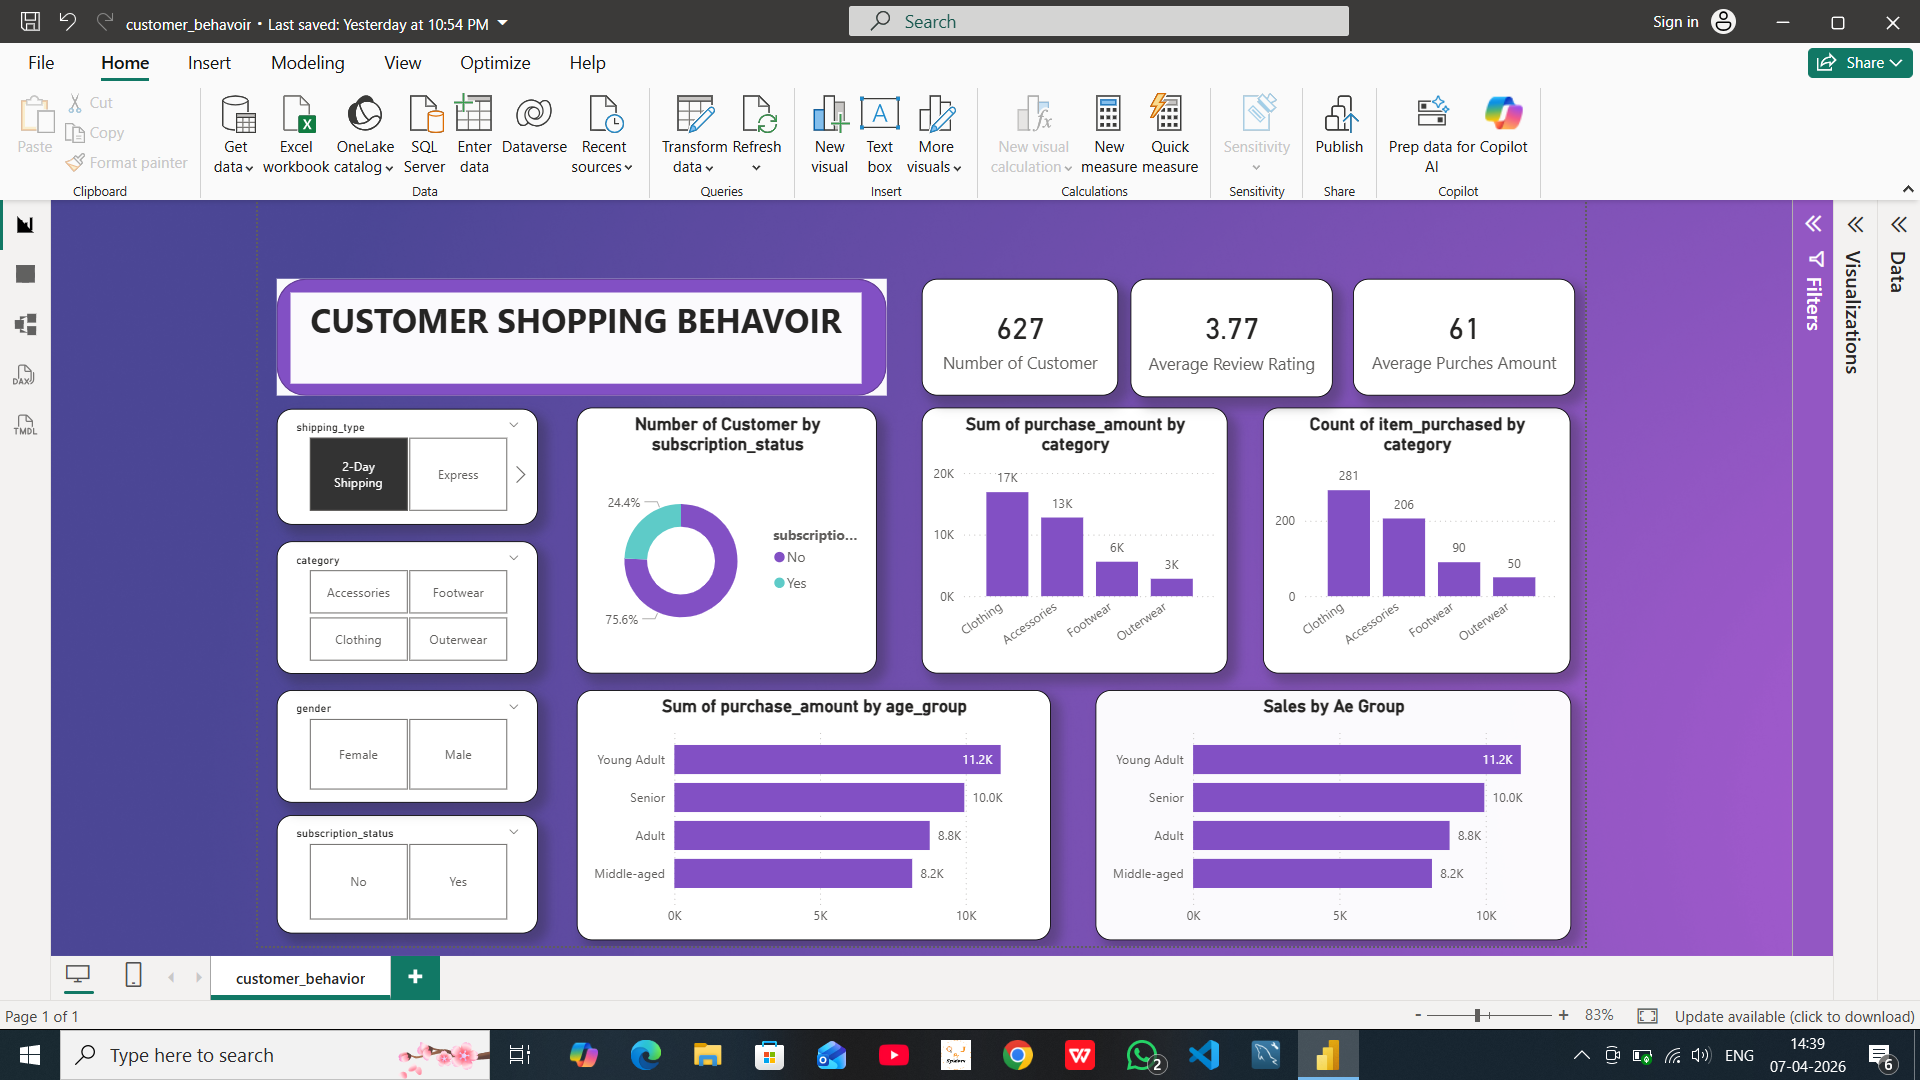

What the dashboard file says about the page in this screenshot:
{"tool":"powerbi","page":{"name":"customer_behavior","canvas":[1280,720],"ordinal":0},"visuals":[{"type":"donutChart","fields":{"Category":["customer_behavior customer.subscription_status"],"Y":["customer_behavior customer.Number of Customer"]},"box":[307.7,200.6,289.8,256.9],"z":0},{"type":"clusteredColumnChart","fields":{"Category":["customer_behavior customer.category"],"Y":["Sum(customer_behavior customer.purchase_amount)"]},"box":[640.1,200.6,295.3,256.9],"z":1000},{"type":"clusteredColumnChart","fields":{"Category":["customer_behavior customer.category"],"Y":["CountNonNull(customer_behavior customer.item_purchased)"]},"box":[969.8,200.6,296.7,256.9],"z":2000},{"type":"barChart","fields":{"Y":["Sum(customer_behavior customer.purchase_amount)"],"Category":["customer_behavior customer.age_group"]},"box":[307.7,472.5,457.4,241.8],"z":3000},{"type":"barChart","title":"Sales by Ae Group","fields":{"Category":["customer_behavior customer.age_group"],"Y":["Sum(customer_behavior customer.purchase_amount)"]},"box":[807.7,472.5,458.8,241.8],"z":4000},{"type":"card","fields":{"Values":["customer_behavior customer.Number of Customer"]},"box":[640.1,75.6,189.6,112.6],"z":5000},{"type":"card","fields":{"Values":["customer_behavior customer.Average Purches Amount"]},"box":[1056.4,75.6,214.3,112.6],"z":6000},{"type":"card","fields":{"Values":["customer_behavior customer.Average Review Rating"]},"box":[842.1,75.6,195.1,114],"z":7000},{"type":"slicer","fields":{"Values":["customer_behavior customer.subscription_status"]},"box":[17.9,594,252.2,114.4],"z":8000},{"type":"slicer","fields":{"Values":["customer_behavior customer.gender"]},"box":[17.9,472.7,252.2,108.9],"z":9000},{"type":"slicer","fields":{"Values":["customer_behavior customer.category"]},"box":[17.9,329.4,252.2,128.2],"z":10000},{"type":"slicer","fields":{"Values":["customer_behavior customer.shipping_type"]},"box":[17.9,201.2,252.2,111.6],"z":11000},{"type":"shape","box":[17.9,75.8,588.5,113],"z":11001},{"type":"textbox","box":[31.7,89.6,551.3,88.2],"z":11002}]}

Visuals, with their boxes on the page's 1280x720 design canvas (x1, y1, x2, y2). These are canvas units, not pixel positions in the 1920x1080 screenshot, which may show the page scaled, cropped or inside an application window:
donutChart - customer_behavior customer.subscription_status x customer_behavior customer.Number of Customer: (left=308, top=201, right=598, bottom=458)
clusteredColumnChart - customer_behavior customer.category x Sum(customer_behavior customer.purchase_amount): (left=640, top=201, right=935, bottom=458)
clusteredColumnChart - customer_behavior customer.category x CountNonNull(customer_behavior customer.item_purchased): (left=970, top=201, right=1266, bottom=458)
barChart - Sum(customer_behavior customer.purchase_amount) x customer_behavior customer.age_group: (left=308, top=472, right=765, bottom=714)
"Sales by Ae Group" barChart: (left=808, top=472, right=1266, bottom=714)
card - customer_behavior customer.Number of Customer: (left=640, top=76, right=830, bottom=188)
card - customer_behavior customer.Average Purches Amount: (left=1056, top=76, right=1271, bottom=188)
card - customer_behavior customer.Average Review Rating: (left=842, top=76, right=1037, bottom=190)
slicer - customer_behavior customer.subscription_status: (left=18, top=594, right=270, bottom=708)
slicer - customer_behavior customer.gender: (left=18, top=473, right=270, bottom=582)
slicer - customer_behavior customer.category: (left=18, top=329, right=270, bottom=458)
slicer - customer_behavior customer.shipping_type: (left=18, top=201, right=270, bottom=313)
shape: (left=18, top=76, right=606, bottom=189)
textbox: (left=32, top=90, right=583, bottom=178)
